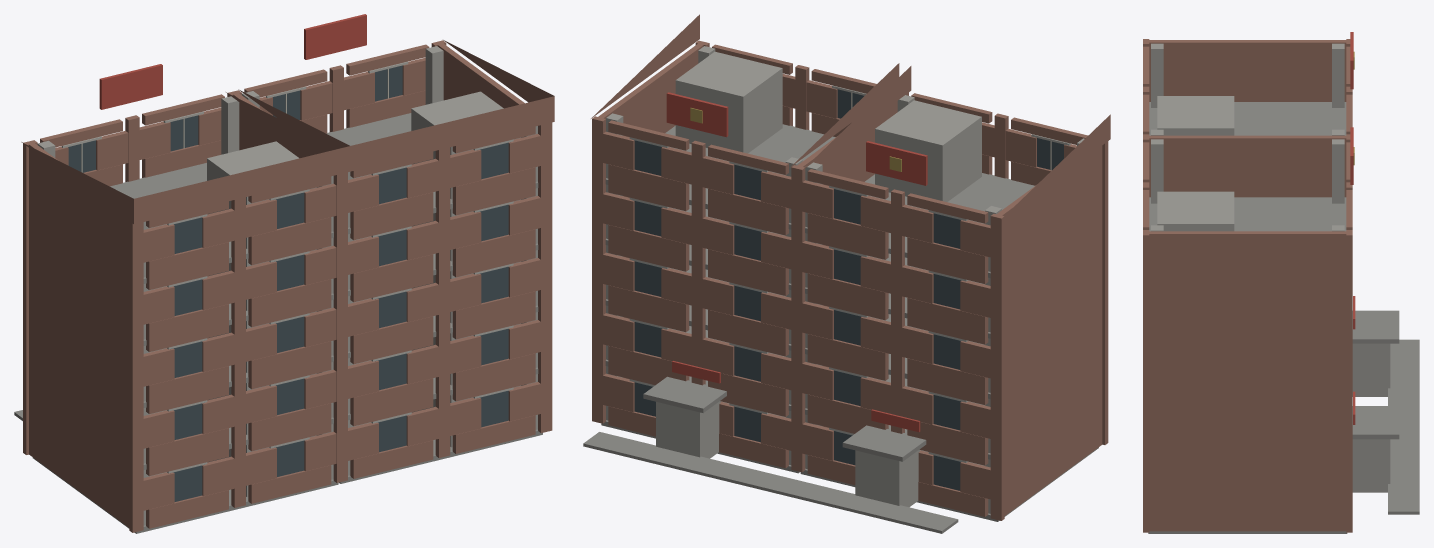
Rendered from b_dorm.glb.
The picture shows the model from 3 angles, left to right: view 1: azimuth 30°, elevation 25°; view 2: azimuth 150°, elevation 25°; view 3: azimuth 270°, elevation 25°; orthographic projection. The views are drawn at different scales.
Visible parts, largest first — view 1: roof_s0, roof_s1, wall_s0_f3_r0, wall_s0_f2_r0, wall_s0_f0_r0, wall_s0_f1_r0, wall_s0_f4_r0, wall_s1_f3_r0, wall_s1_f2_r0, wall_s1_f0_r0, wall_s1_f1_r0, wall_s0_f1_w (+30 smaller); view 2: details, stair_s1, stair_s0, wall_s0_f4_l0, wall_s0_f3_l0, wall_s0_f2_l0, wall_s0_f1_l0, wall_s1_f4_l0, wall_s0_f4_l1, wall_s1_f4_l1, wall_s0_f0_w, wall_s0_f1_w (+26 smaller); view 3: details, wall_s1_f4_e, wall_s1_f1_e, wall_s1_f3_e, wall_s1_f0_e, wall_s1_f2_e, wall_s0_f4_e, wall_s0_f4_w, slab_s1_f4, slab_s0_f4, stair_s1, stair_s0 (+17 smaller).
Part boxes in pixels (bbox=[...]): roof_s0: bbox=[21, 89, 350, 224]; roof_s1: bbox=[226, 40, 554, 173]; wall_s0_f3_r0: bbox=[129, 257, 245, 346]; wall_s0_f2_r0: bbox=[129, 319, 245, 408]; wall_s0_f0_r0: bbox=[129, 443, 245, 532]; wall_s0_f1_r0: bbox=[129, 381, 245, 470]; wall_s0_f4_r0: bbox=[129, 197, 245, 284]; wall_s1_f3_r0: bbox=[348, 207, 450, 292]; wall_s1_f2_r0: bbox=[348, 269, 450, 354]; wall_s1_f0_r0: bbox=[348, 393, 450, 478]; wall_s1_f1_r0: bbox=[348, 331, 450, 416]; wall_s0_f1_w: bbox=[29, 331, 129, 465]; details: bbox=[583, 92, 958, 533]; stair_s1: bbox=[675, 51, 782, 153]; stair_s0: bbox=[875, 100, 981, 201]; wall_s0_f4_l0: bbox=[891, 189, 1004, 278]; wall_s0_f3_l0: bbox=[891, 252, 1004, 339]; wall_s0_f2_l0: bbox=[891, 312, 1004, 399]; wall_s0_f1_l0: bbox=[891, 373, 1004, 460]; wall_s1_f4_l0: bbox=[691, 140, 791, 226]; wall_s0_f4_l1: bbox=[791, 165, 890, 250]; wall_s1_f4_l1: bbox=[592, 116, 691, 201]; wall_s0_f0_w: bbox=[1004, 384, 1102, 515]; wall_s0_f1_w: bbox=[1004, 324, 1102, 455]; details: bbox=[1350, 32, 1419, 514]; wall_s1_f4_e: bbox=[1149, 231, 1346, 293]; wall_s1_f1_e: bbox=[1149, 412, 1346, 471]; wall_s1_f3_e: bbox=[1149, 293, 1346, 352]; wall_s1_f0_e: bbox=[1149, 472, 1346, 531]; wall_s1_f2_e: bbox=[1149, 353, 1346, 412]; wall_s0_f4_e: bbox=[1146, 135, 1349, 197]; wall_s0_f4_w: bbox=[1146, 40, 1349, 101]; slab_s1_f4: bbox=[1149, 197, 1346, 231]; slab_s0_f4: bbox=[1149, 102, 1346, 135]; stair_s1: bbox=[1157, 191, 1234, 231]; stair_s0: bbox=[1157, 96, 1234, 135].
Bounding box in the file's own units: 20.6 × 16.82 × 12.4.
